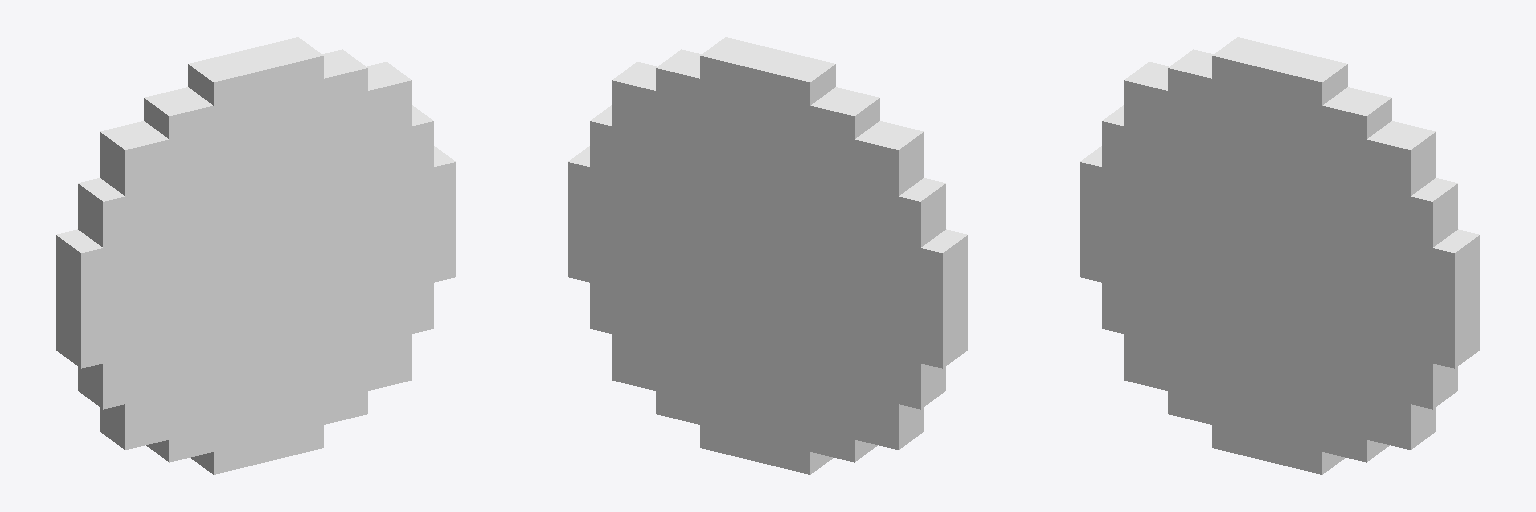
File: powerup_bomb.obj
3 views of the same model, side by side, from view 1: azimuth 30°, elevation 25°; view 2: azimuth 150°, elevation 25°; view 3: azimuth 330°, elevation 25° (orthographic).
Parts seen in each view (by area): view 1: powerup_bomb; view 2: powerup_bomb; view 3: powerup_bomb.
Part boxes in pixels (left/top/right/bottom): powerup_bomb: left=56, top=37, right=455, bottom=474; powerup_bomb: left=568, top=37, right=967, bottom=474; powerup_bomb: left=1080, top=37, right=1479, bottom=474.
Size of the model in its own units: 17 by 17 by 2.